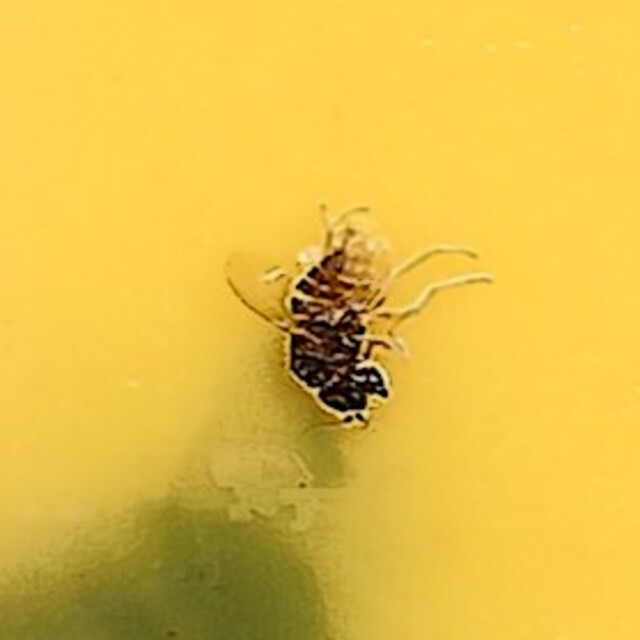Brachycera: (229, 208, 411, 432)
